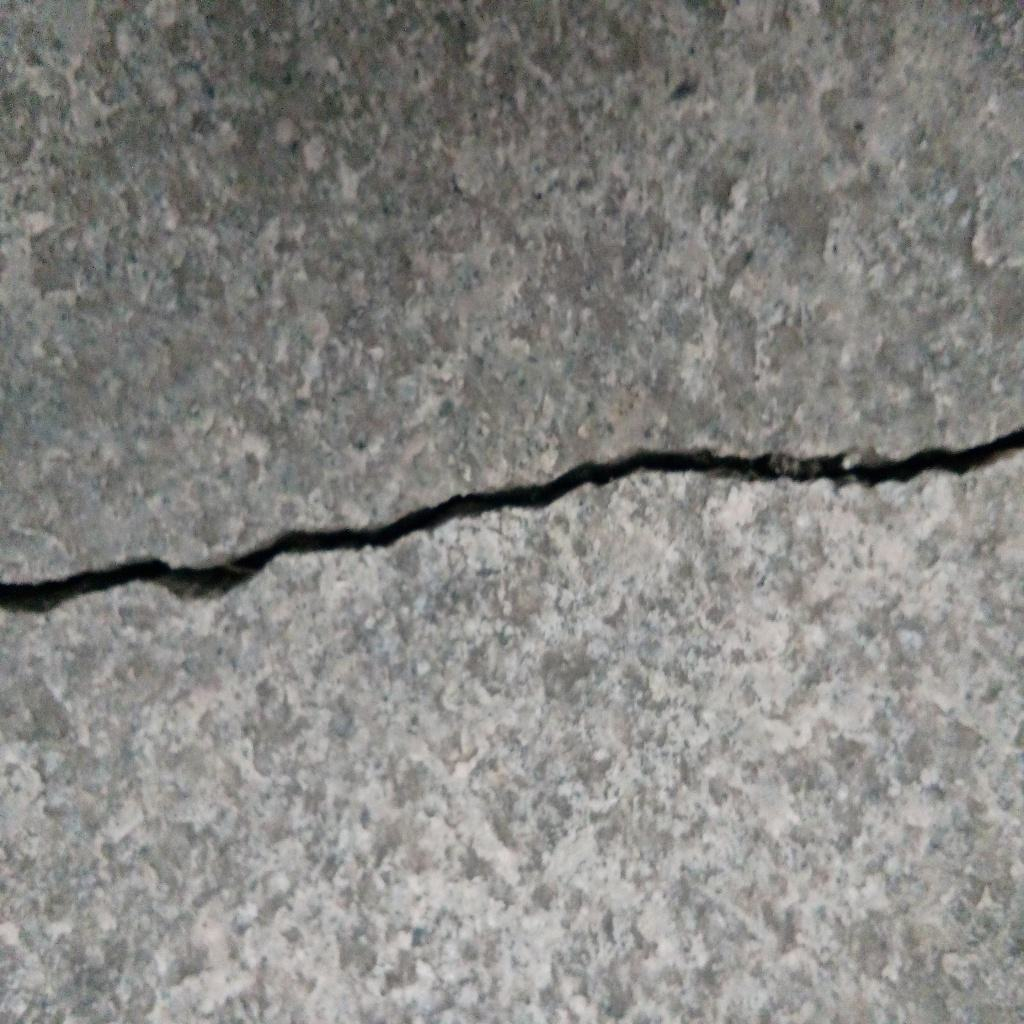Crack: (1, 427, 1024, 615)
